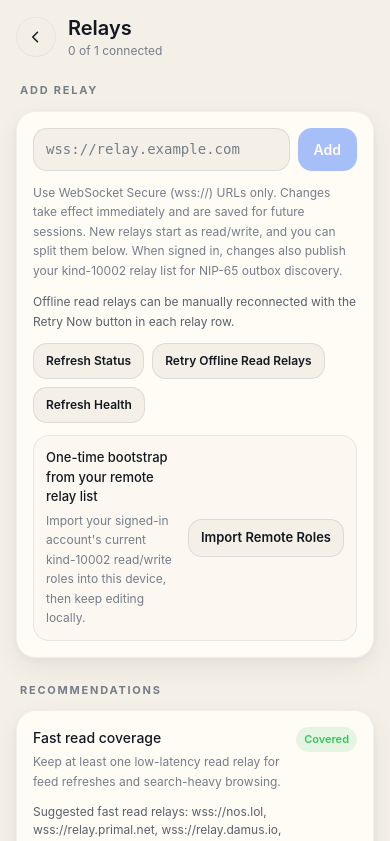
Test: RelaysPage import UI › imports remote relay roles from the signed-in account
What coordinates should you click on to do the following:
click the button "Import Remote Roles"
I would click on:
 (266, 538)
Its box is [188,519,344,556].
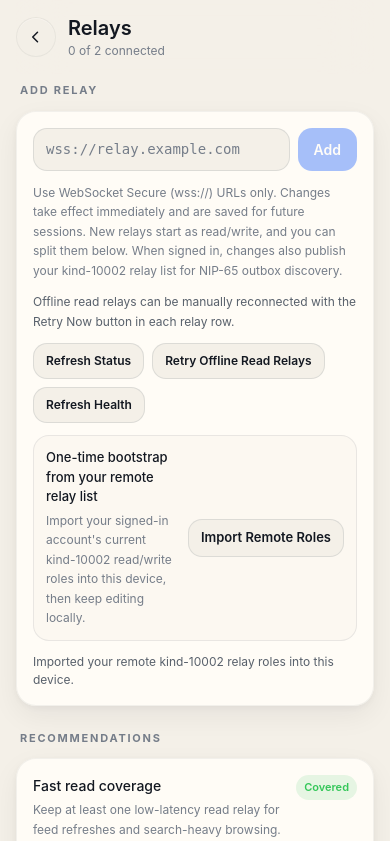
Expected: the text "Imported your remote kind-10002 relay roles into this device." is shown, [33,652,357,688]
